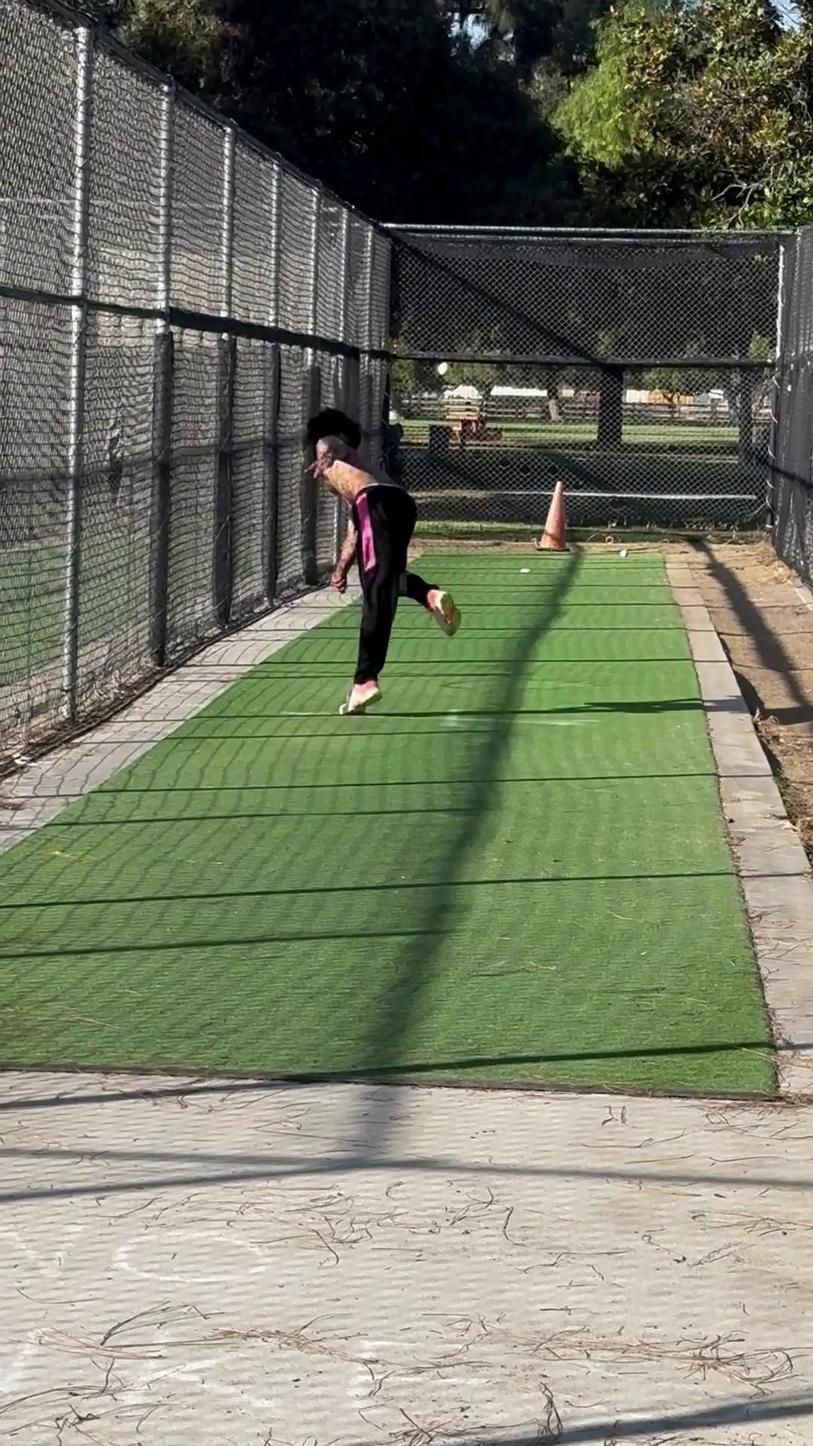ball: (430, 358, 457, 380)
